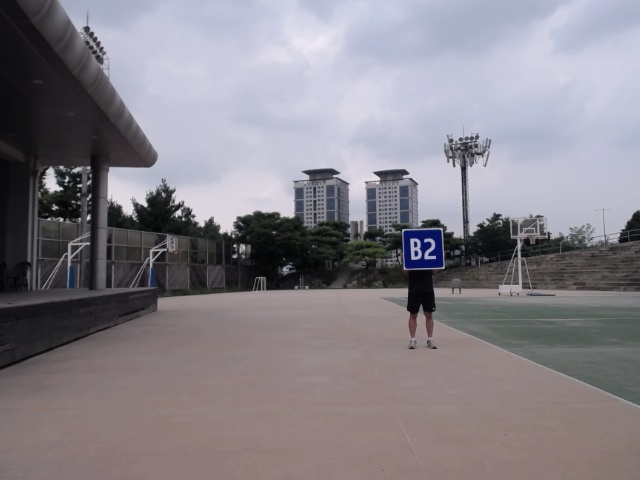delivery_b2: (402, 228, 446, 271)
